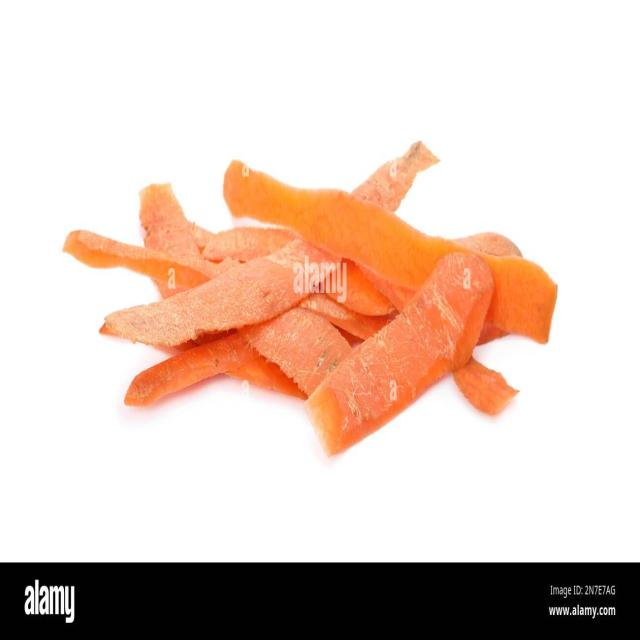Wet: (96, 135, 439, 349), (221, 158, 558, 344), (302, 245, 494, 462)
